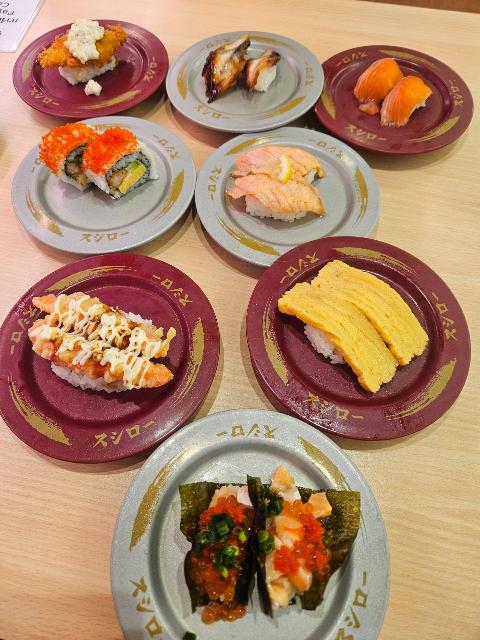janred: (3, 260, 222, 442), (280, 257, 452, 414), (314, 46, 468, 153), (8, 25, 160, 102)
janwhite: (124, 434, 384, 638), (14, 129, 204, 240), (201, 139, 380, 239), (157, 22, 313, 129)
